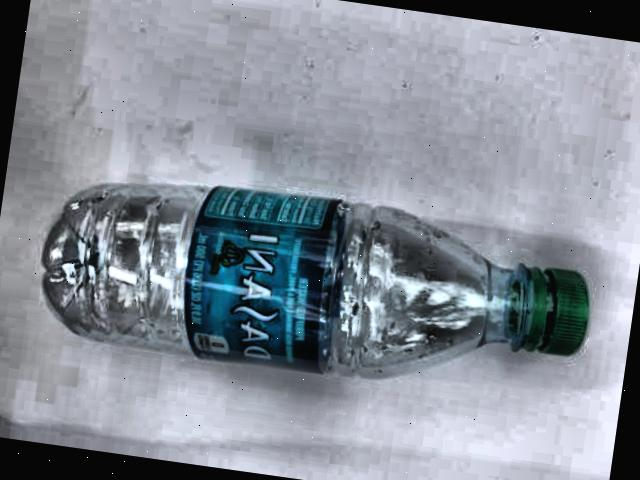Bottles: (0, 120, 629, 462)
